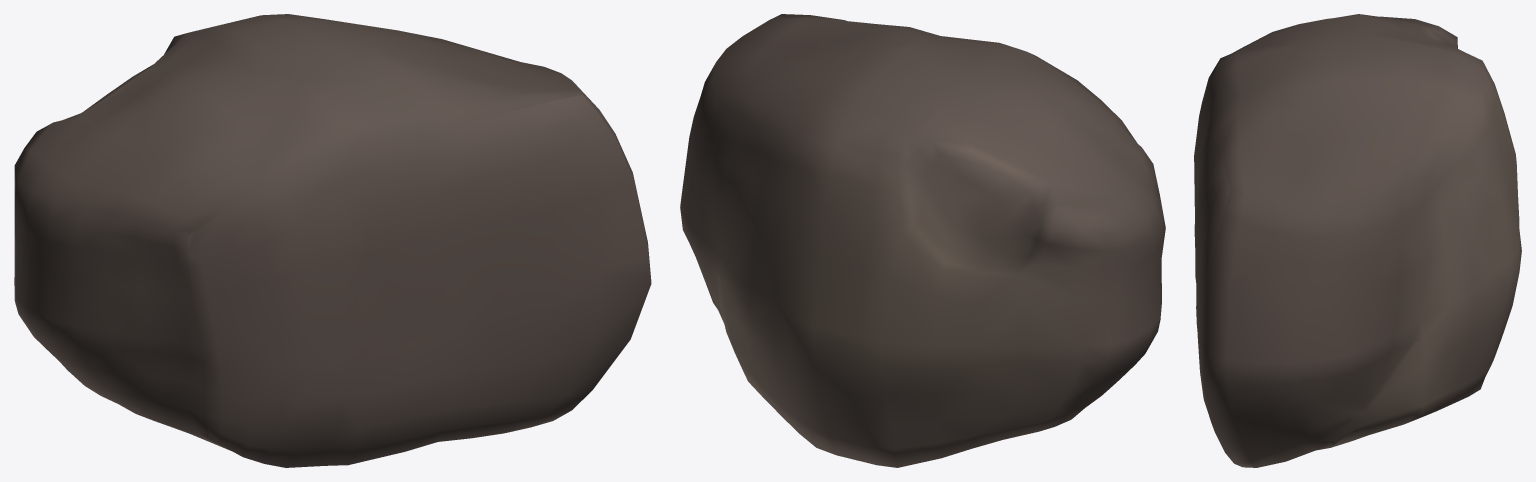
The model's file is RockMedium.005.glb.
3 views of the same model, side by side, from view 1: azimuth 30°, elevation 25°; view 2: azimuth 150°, elevation 25°; view 3: azimuth 270°, elevation 25° (orthographic). The views are drawn at different scales.
Visible parts, largest first — view 1: RockMedium.005; view 2: RockMedium.005; view 3: RockMedium.005.
Part boxes in pixels (x1=…): RockMedium.005: x1=14, y1=14, x2=651, y2=467; RockMedium.005: x1=680, y1=14, x2=1165, y2=467; RockMedium.005: x1=1194, y1=14, x2=1521, y2=467.
Size of the model in its own units: 454 by 313 by 271.
